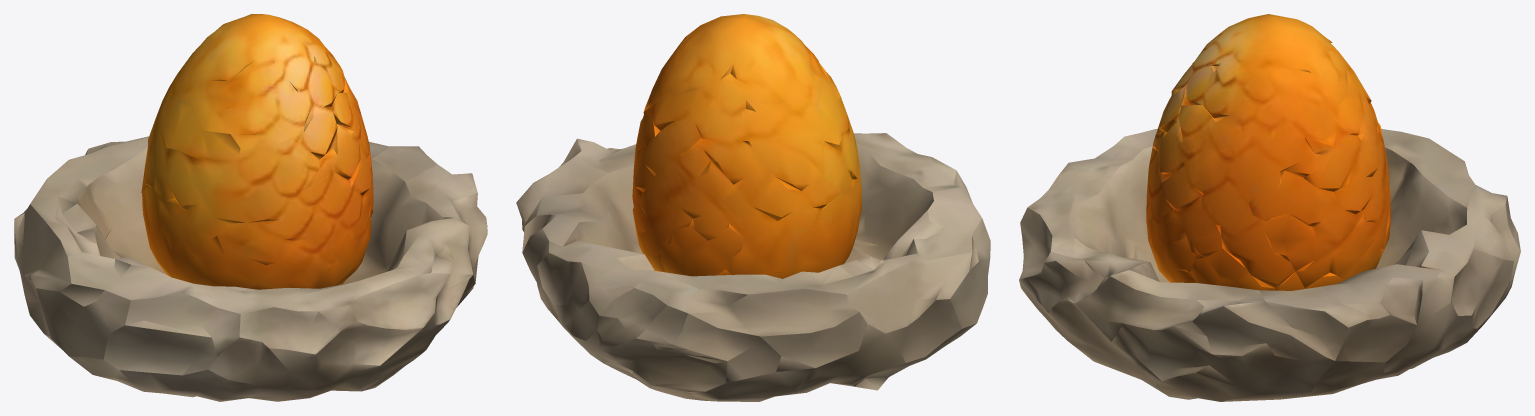
The model's file is m2DragonEgg.glb.
3 views of the same model, side by side, from view 1: azimuth 30°, elevation 25°; view 2: azimuth 150°, elevation 25°; view 3: azimuth 270°, elevation 25° (orthographic). The views are drawn at different scales.
Parts seen in each view (by area): view 1: model; view 2: model; view 3: model.
Boxes of the visible parts, x1,y1,x2,y2 form: model: (14, 14, 487, 401); model: (516, 14, 990, 401); model: (1019, 14, 1520, 401).
Size of the model in its own units: 1.87 by 1.38 by 1.9.
1 material, 1 textured.
